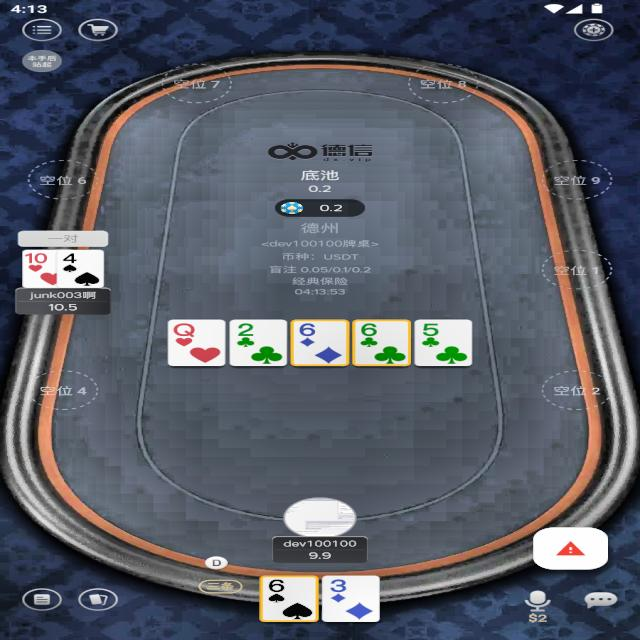10h: (23, 252, 51, 266)
2m: (233, 322, 259, 338)
3f: (327, 577, 351, 594)
4s: (57, 250, 84, 265)
5m: (418, 322, 445, 338)
6f: (297, 321, 321, 338)
6m: (355, 321, 384, 337)
6s: (265, 578, 289, 593)
Qh: (168, 321, 202, 338)
